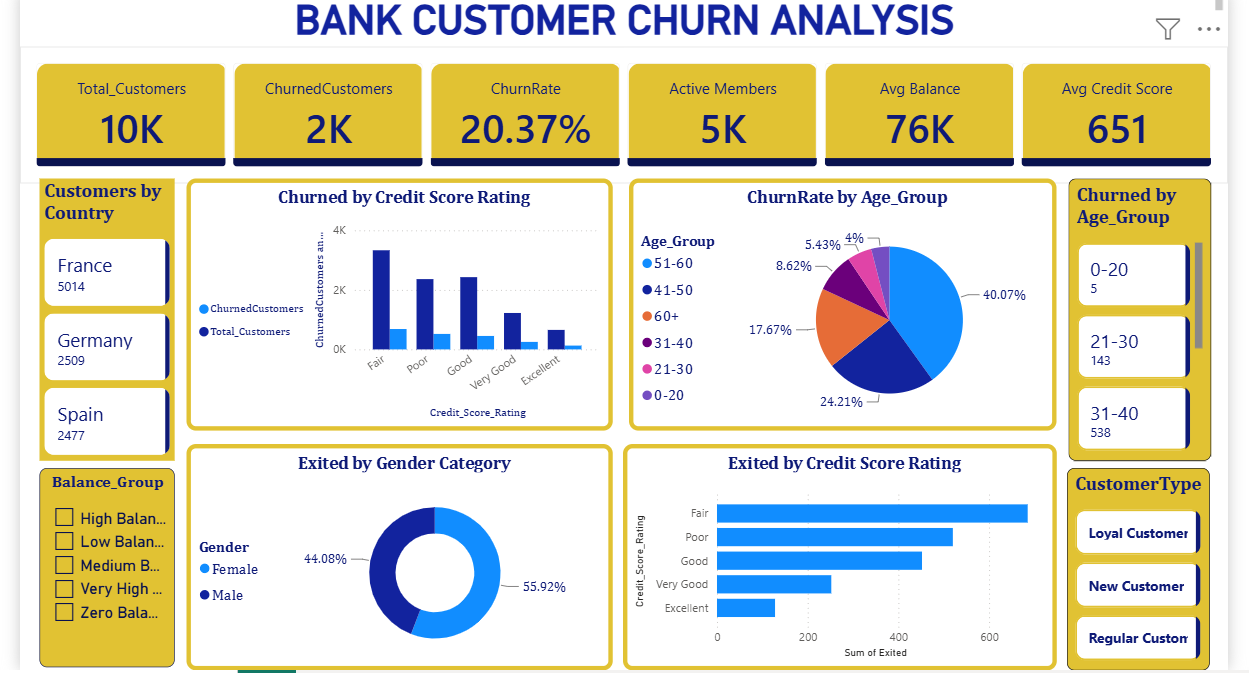

The dashboard page shown, as its layout file describes it:
{"tool":"powerbi","page":{"name":"Churn Analysis Dashboard","canvas":[1280,720],"ordinal":0},"visuals":[{"type":"textbox","box":[9.5,0,1270.9,58.9],"z":0},{"type":"cardVisual","fields":{"Data":["Churn_Modelling_Cleaned.Total_Customers","Churn_Modelling_Cleaned.ChurnedCustomers","Churn_Modelling_Cleaned.ChurnRate","Churn_Modelling_Cleaned.Active Members","Churn_Modelling_Cleaned.Avg Balance","Churn_Modelling_Cleaned.Avg Credit Score"]},"box":[0,58.9,1280.4,144.7],"z":1000},{"type":"advancedSlicerVisual","title":"Customers by Country","fields":{"Values":["Churn_Modelling_Cleaned.Geography"],"Label":["Churn_Modelling_Cleaned.Customers by Country"]},"box":[20.7,198.8,143.2,299],"z":2000},{"type":"advancedSlicerVisual","title":"Churned by Age_Group","fields":{"Values":["Churn_Modelling_Cleaned.Age_Group"],"Label":["Churn_Modelling_Cleaned.ChurnedCustomers"]},"box":[1111.8,198.8,151.1,299],"z":3000},{"type":"pieChart","fields":{"Category":["Churn_Modelling_Cleaned.Age_Group"],"Y":["Churn_Modelling_Cleaned.ChurnRate"]},"box":[645.8,198.8,453.3,267.2],"z":4000},{"type":"clusteredColumnChart","title":"Churned by Credit Score Rating","fields":{"Category":["Churn_Modelling_Cleaned.Credit_Score_Rating"],"Y":["Churn_Modelling_Cleaned.ChurnedCustomers","Churn_Modelling_Cleaned.Total_Customers"]},"box":[176.6,198.8,451.7,267.2],"z":5000},{"type":"donutChart","title":"Exited by Gender Category","fields":{"Category":["Churn_Modelling_Cleaned.Gender"],"Y":["Sum(Churn_Modelling_Cleaned.Exited)"]},"box":[176.6,480.4,451.7,240.2],"z":6000},{"type":"clusteredBarChart","title":"Exited by Credit Score Rating","fields":{"Y":["Sum(Churn_Modelling_Cleaned.Exited)"],"Category":["Churn_Modelling_Cleaned.Credit_Score_Rating"]},"box":[639.4,480.4,459.7,240.2],"z":7000},{"type":"slicer","title":"Balance_Group","fields":{"Values":["Churn_Modelling_Cleaned.Balance_Group"]},"box":[20.7,505.8,143.2,211.6],"z":8000},{"type":"advancedSlicerVisual","title":"CustomerType","fields":{"Values":["Churn_Modelling_Cleaned.CustomerType"]},"box":[1110.2,505.8,151.1,214.7],"z":8001}]}

Visuals, with their boxes in screenshot pixels (x1, y1, x2, y2):
textbox: <box>12,0,1227,27</box>
cardVisual - Churn_Modelling_Cleaned.Total_Customers x Churn_Modelling_Cleaned.ChurnedCustomers: <box>3,27,1227,165</box>
"Customers by Country" advancedSlicerVisual: <box>23,161,160,447</box>
"Churned by Age_Group" advancedSlicerVisual: <box>1066,161,1211,447</box>
pieChart - Churn_Modelling_Cleaned.Age_Group x Churn_Modelling_Cleaned.ChurnRate: <box>621,161,1054,416</box>
"Churned by Credit Score Rating" clusteredColumnChart: <box>172,161,604,416</box>
"Exited by Gender Category" donutChart: <box>172,430,604,660</box>
"Exited by Credit Score Rating" clusteredBarChart: <box>615,430,1054,660</box>
"Balance_Group" slicer: <box>23,454,160,657</box>
"CustomerType" advancedSlicerVisual: <box>1065,454,1209,660</box>
